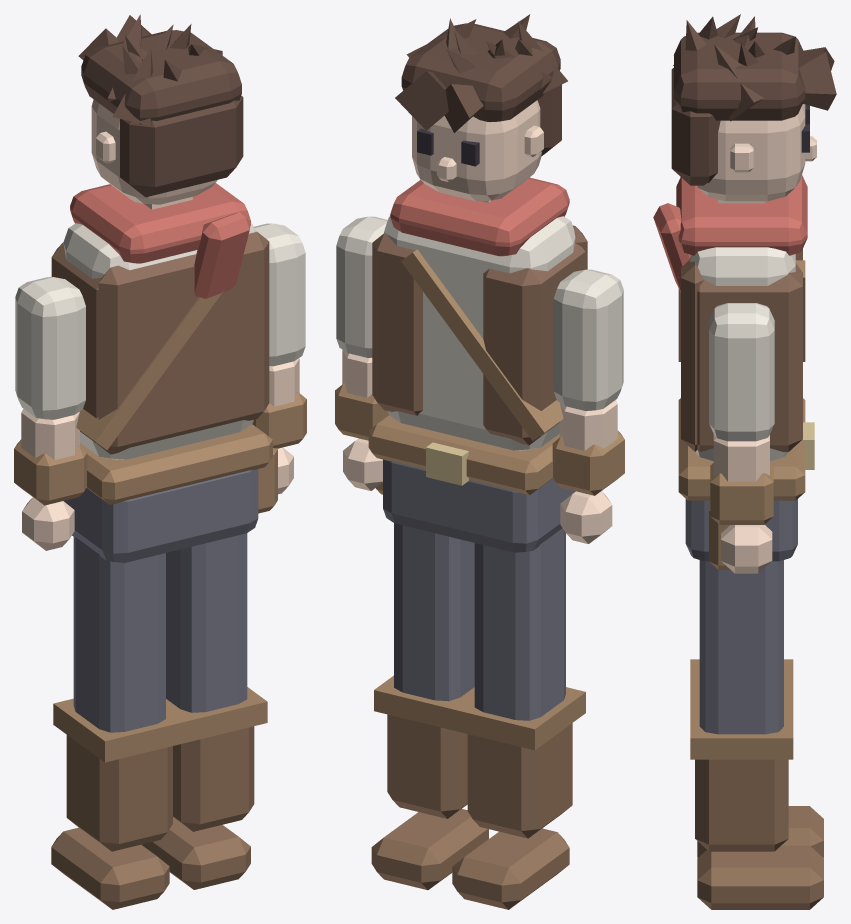
File: hero.glb
The picture shows the model from 3 angles, left to right: view 1: azimuth 30°, elevation 25°; view 2: azimuth 150°, elevation 25°; view 3: azimuth 270°, elevation 25°; orthographic projection.
Visible parts, largest first — view 1: Torso, LegR, LegL, Head, Hips, ArmR, ArmL; view 2: Torso, LegR, LegL, Head, Hips, ArmR, ArmL; view 3: LegL, Torso, Head, ArmL, Hips, LegR.
Boxes of the visible parts, x1,y1,x2,y2 form: Torso: (51,183,269,459); LegR: (51,537,186,909); LegL: (141,533,267,889); Head: (78,14,243,209); Hips: (64,424,277,562); ArmR: (14,277,87,550); ArmL: (252,223,306,494); Torso: (372,177,587,450); LegR: (452,528,585,909); LegL: (371,523,488,890); Head: (395,14,567,202); Hips: (368,415,575,552); ArmR: (552,269,624,543); ArmL: (335,216,388,490); LegL: (690,560,823,909); Torso: (653,175,807,461); Head: (671,14,836,203); ArmL: (709,303,774,573); Hips: (678,398,814,569); LegR: (690,659,823,857).
Bounding box in the file's own units: 0.67 × 2 × 0.3915.
